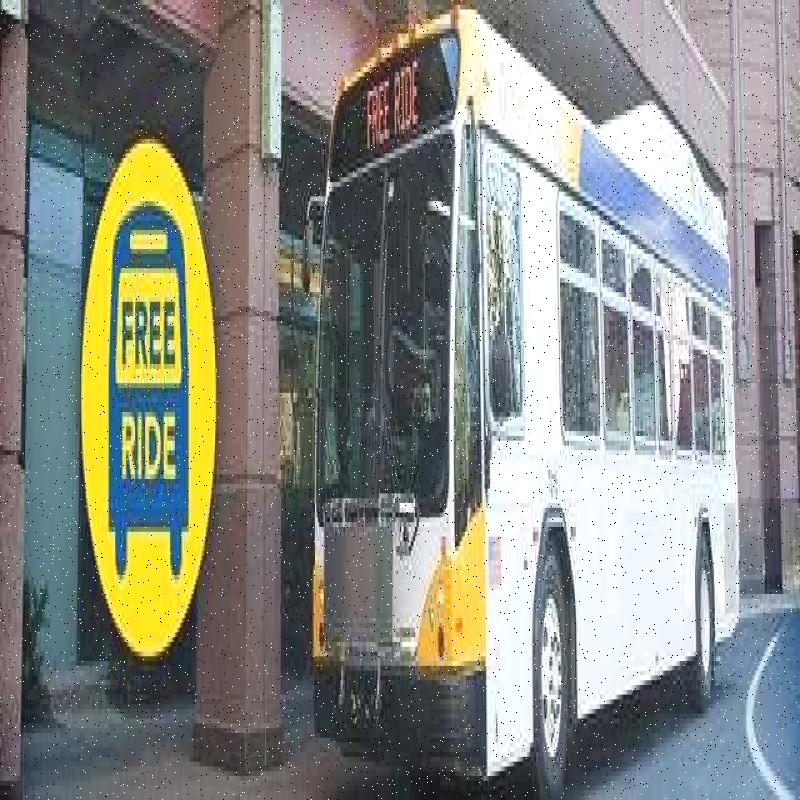bus: (285, 14, 751, 800)
